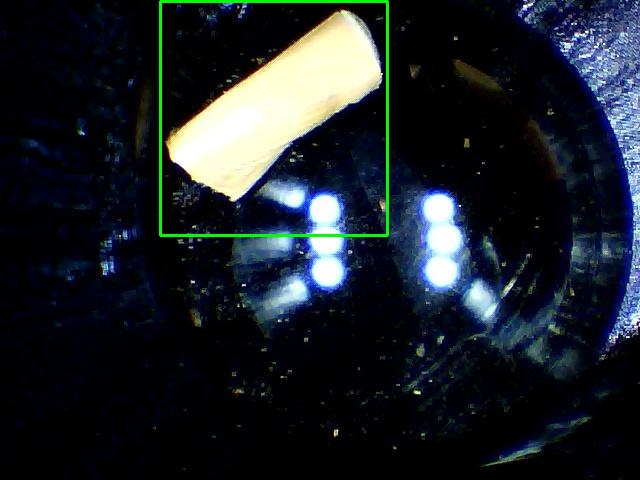megot: (160, 1, 387, 235)
